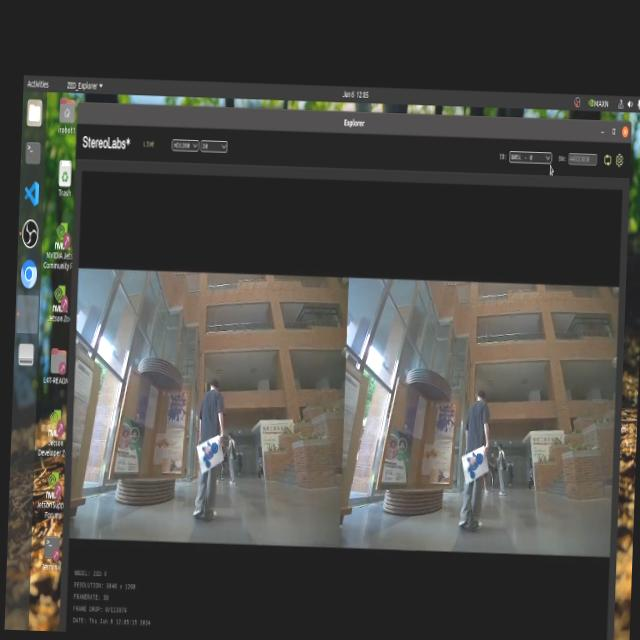blue: (457, 446, 492, 478), (193, 444, 227, 472)
